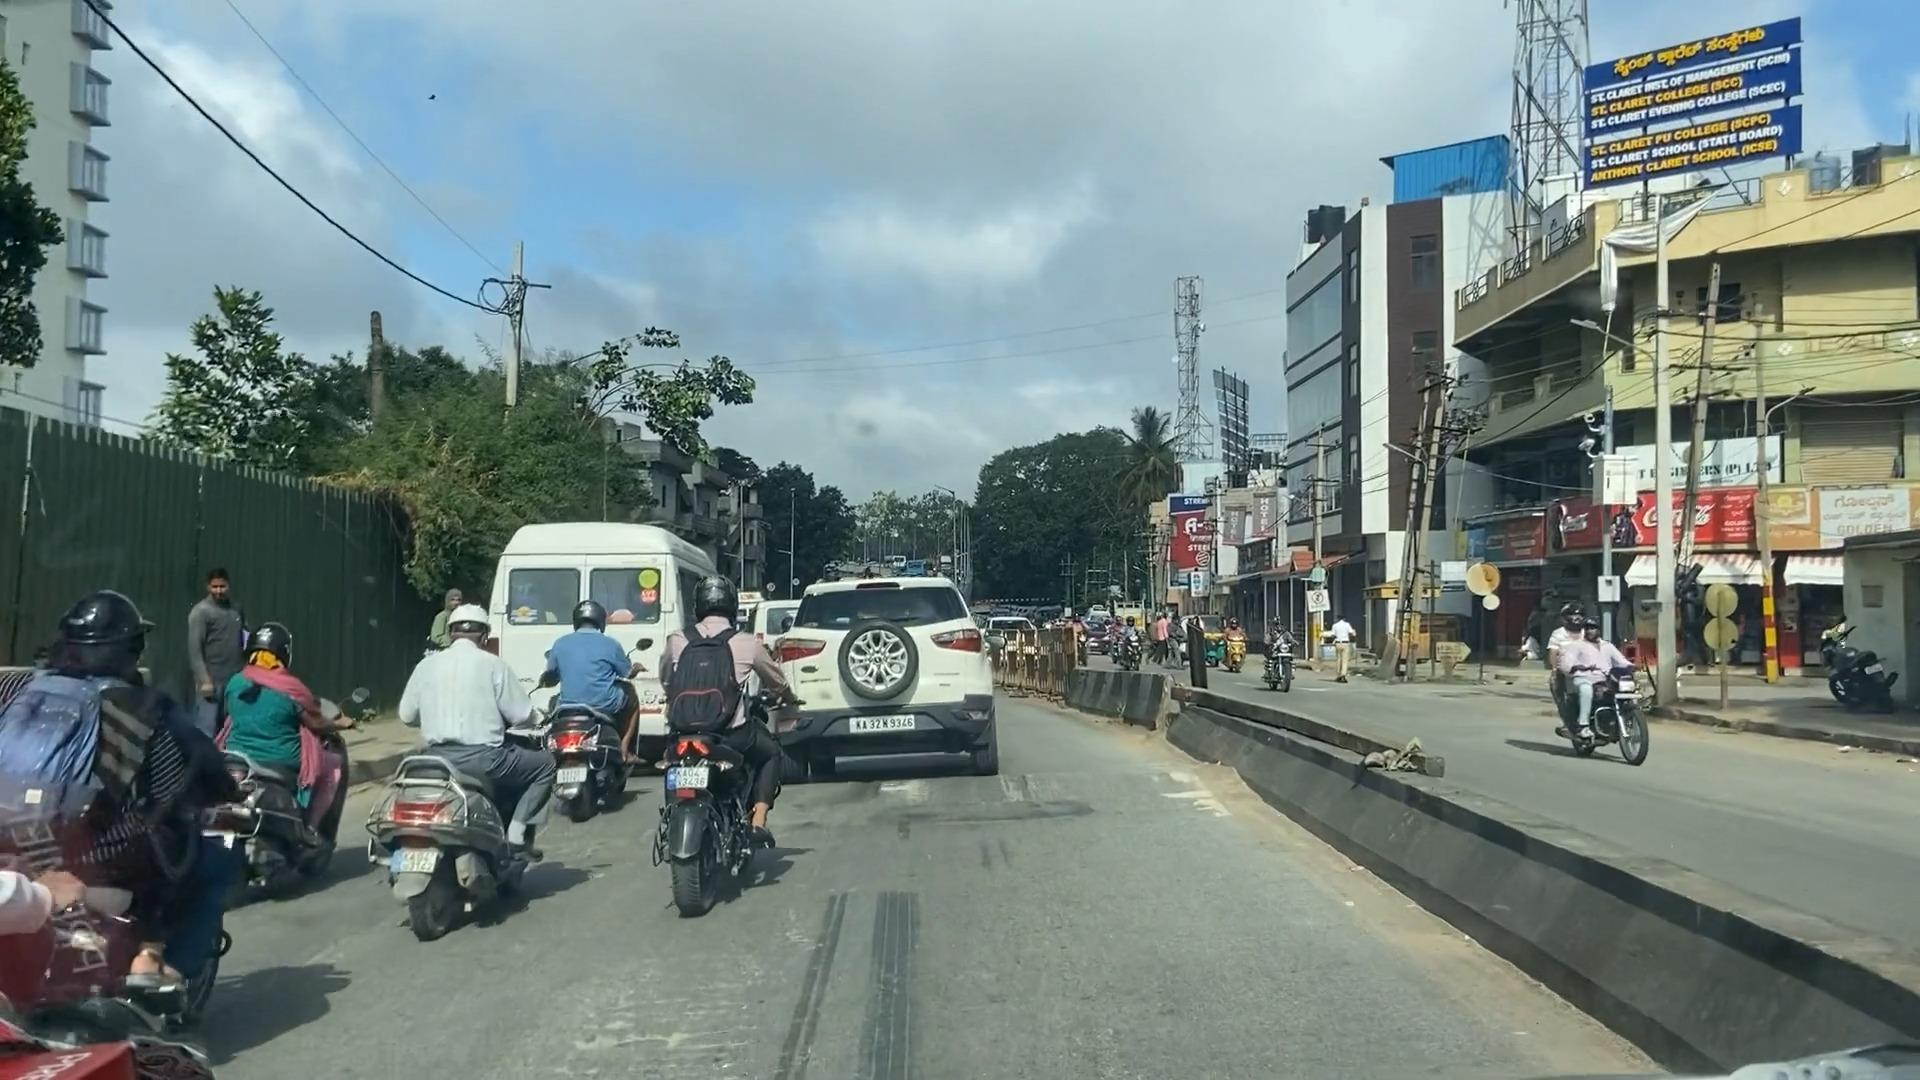LMV: (388, 599, 534, 927), (790, 580, 1002, 764), (654, 588, 774, 902), (530, 608, 638, 804)
UnsurfacedRoad: (542, 922, 814, 1080)
